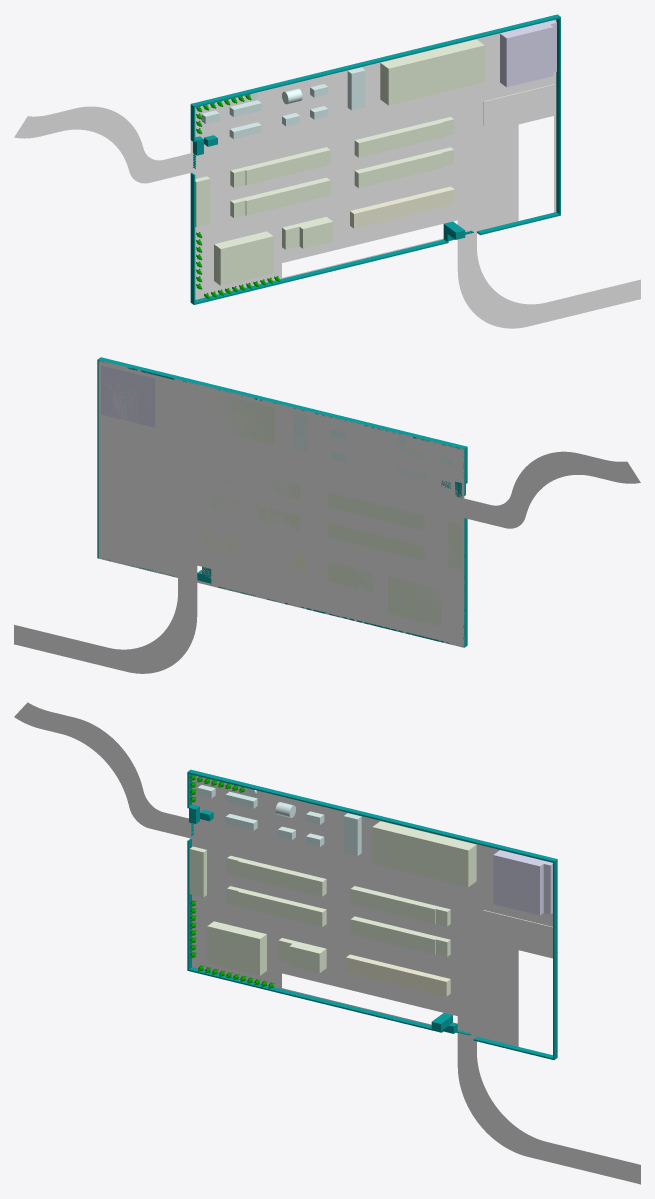
3 renders of one model, top to bottom at view 1: azimuth 30°, elevation 25°; view 2: azimuth 150°, elevation 25°; view 3: azimuth 330°, elevation 25°, orthographic.
Parts seen in each view (by area): view 1: Group_86, Group_105, Group_36, Group_51, Group_37, Group_48, Group_10, Group_28, Group_22, Group_40, Group_41, Group_42 (+1 smaller); view 2: Group_86, Group_105, Group_51, Group_37, Group_36, Group_48, Group_10; view 3: Group_86, Group_105, Group_36, Group_51, Group_37, Group_48, Group_10.
Part boxes in pixels (x1,y1,x2,y2): Group_86: [190, 19, 556, 299]; Group_105: [14, 106, 640, 328]; Group_36: [380, 39, 484, 105]; Group_51: [500, 22, 553, 87]; Group_37: [214, 231, 273, 285]; Group_48: [483, 84, 554, 126]; Group_10: [296, 217, 333, 248]; Group_28: [354, 165, 379, 188]; Group_22: [354, 135, 379, 157]; Group_40: [357, 203, 384, 226]; Group_41: [404, 192, 431, 215]; Group_42: [427, 186, 454, 209]; Group_86: [98, 360, 464, 647]; Group_105: [14, 451, 640, 673]; Group_51: [108, 367, 154, 427]; Group_37: [388, 576, 440, 625]; Group_36: [201, 391, 274, 444]; Group_48: [101, 430, 171, 470]; Group_10: [328, 562, 358, 588]; Group_86: [190, 775, 552, 1046]; Group_105: [14, 702, 640, 1184]; Group_36: [372, 821, 476, 887]; Group_51: [493, 850, 546, 915]; Group_37: [207, 921, 266, 975]; Group_48: [483, 910, 552, 951]; Group_10: [289, 941, 326, 973].
Bounding box in the file's own units: 10533 × 5340 × 354.
